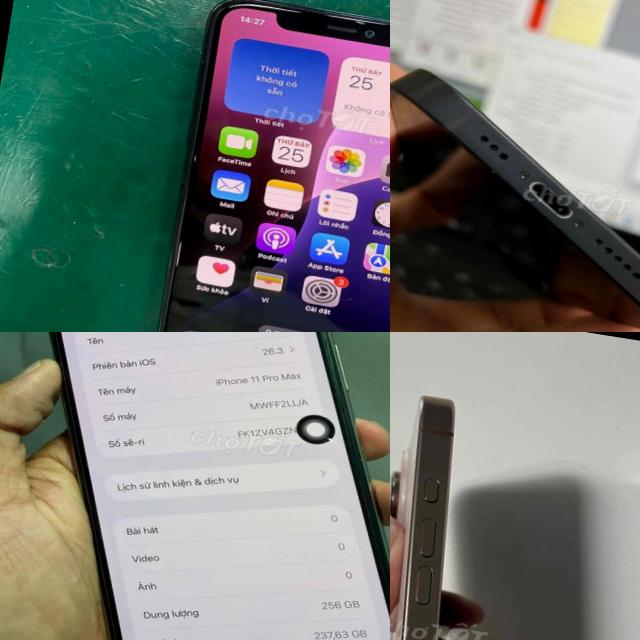gen_11: (0, 332, 390, 640), (131, 0, 390, 332)
gen_12_13: (390, 48, 640, 332)
gen_16: (390, 396, 454, 640)
